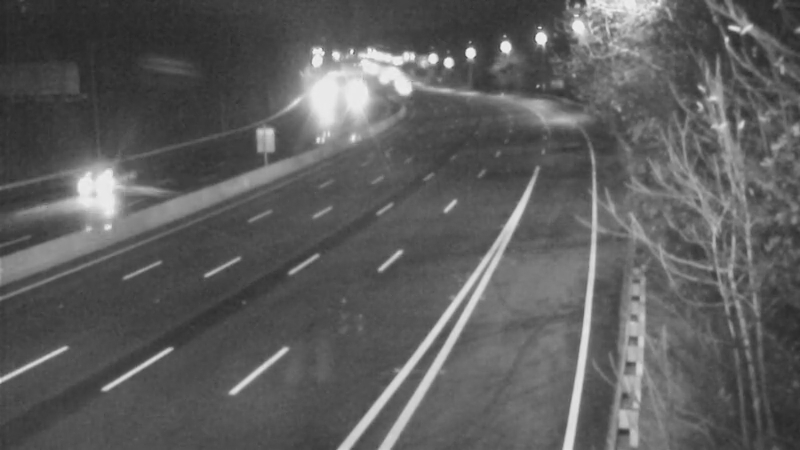vehicle: (54, 147, 134, 227), (381, 62, 431, 112), (298, 73, 348, 123), (330, 73, 380, 123)
